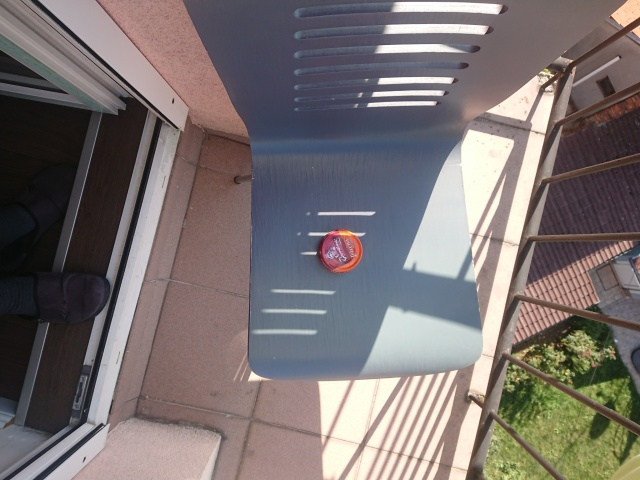Gavrilovic Pork Liver Pate 100g: (316, 227, 364, 274)
